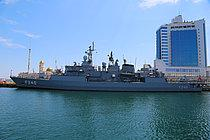MIL_Ship: (8, 44, 205, 93)
